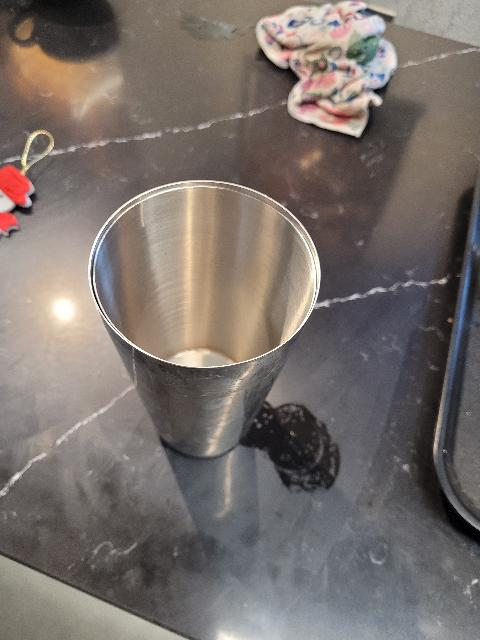Metal: (84, 167, 330, 466)
